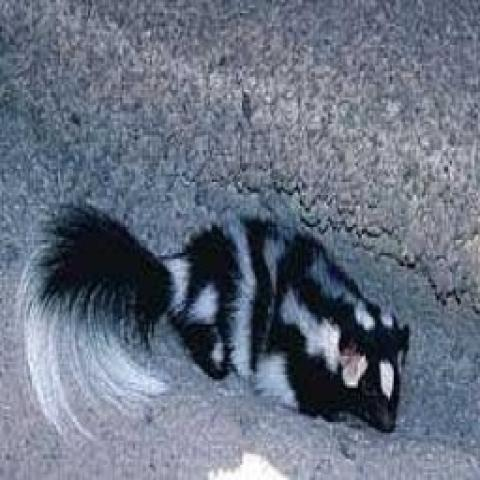small_animal: (0, 0, 478, 478), (17, 195, 414, 441)
